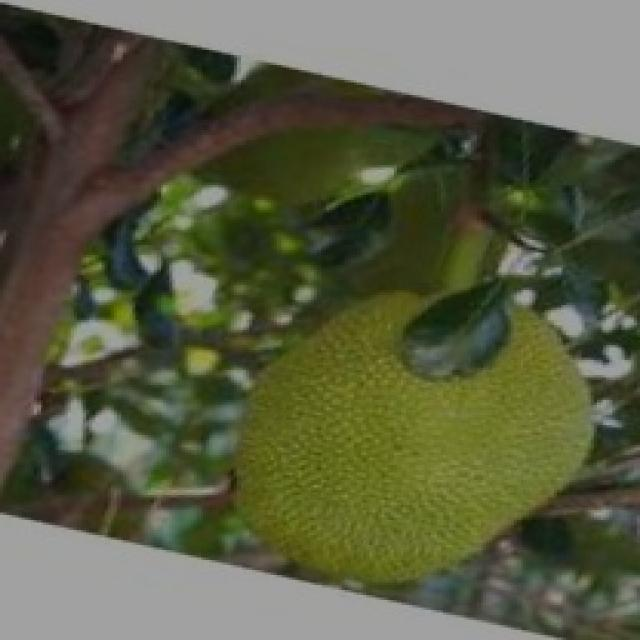Fruit: (206, 255, 628, 617)
